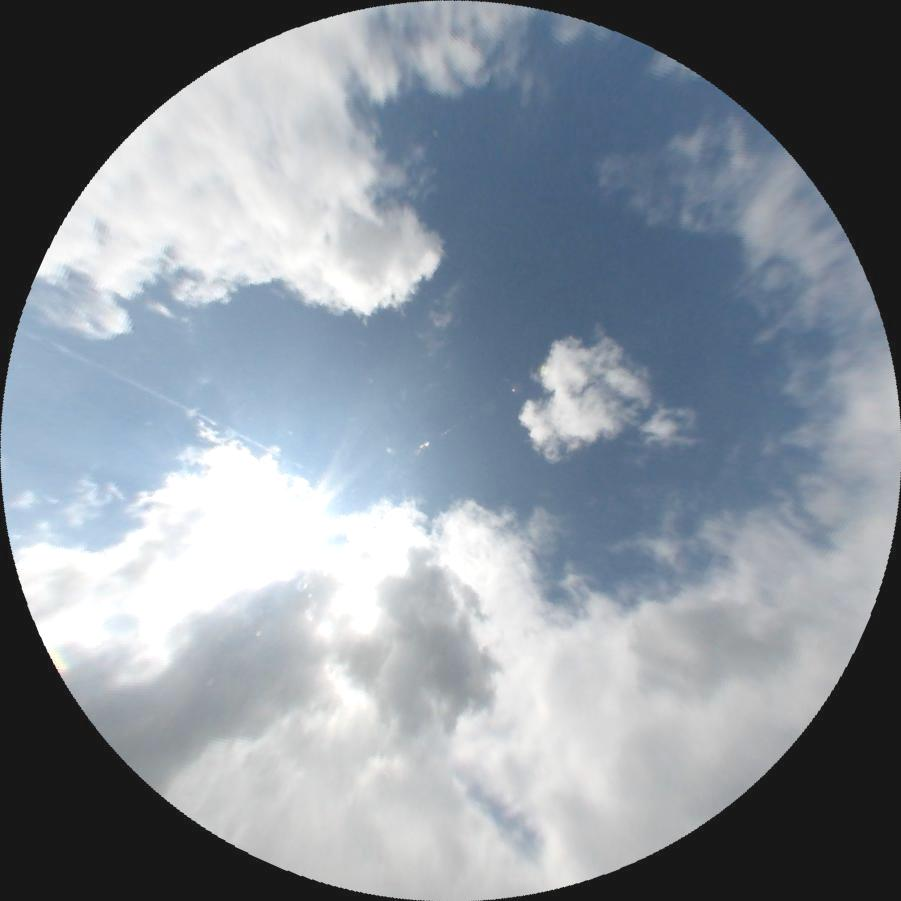contrail young: (173, 439, 189, 476)
parasite: (20, 327, 283, 456)
